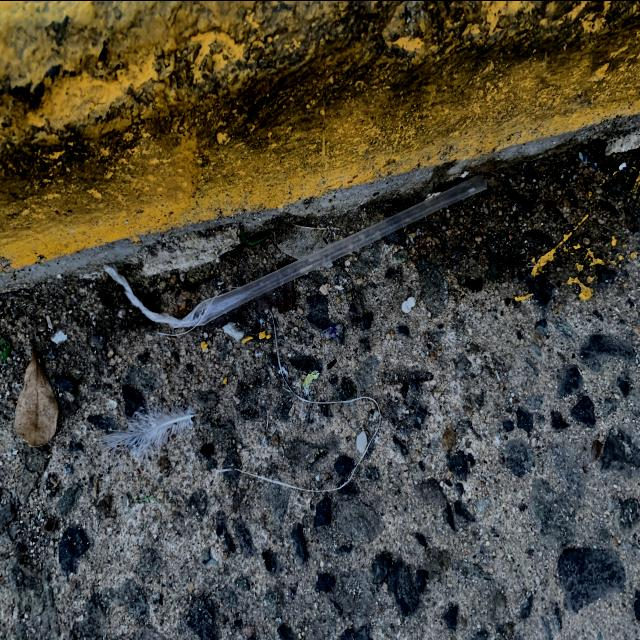Plastic straw: (103, 174, 487, 327)
